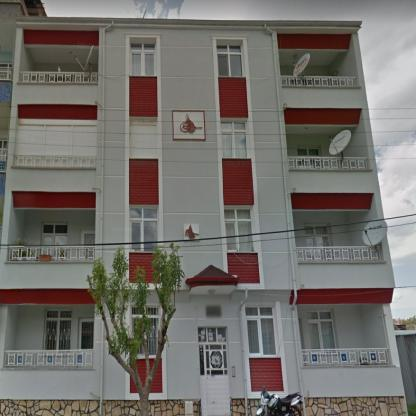door: (198, 327, 231, 415)
window: (245, 308, 276, 355), (299, 312, 336, 350), (223, 210, 253, 250), (130, 208, 158, 250), (46, 310, 72, 350), (221, 122, 247, 158), (306, 225, 332, 260), (130, 42, 156, 76), (42, 224, 67, 258), (216, 46, 243, 76), (146, 308, 158, 355), (298, 148, 320, 167), (80, 321, 93, 349), (84, 234, 95, 244)
